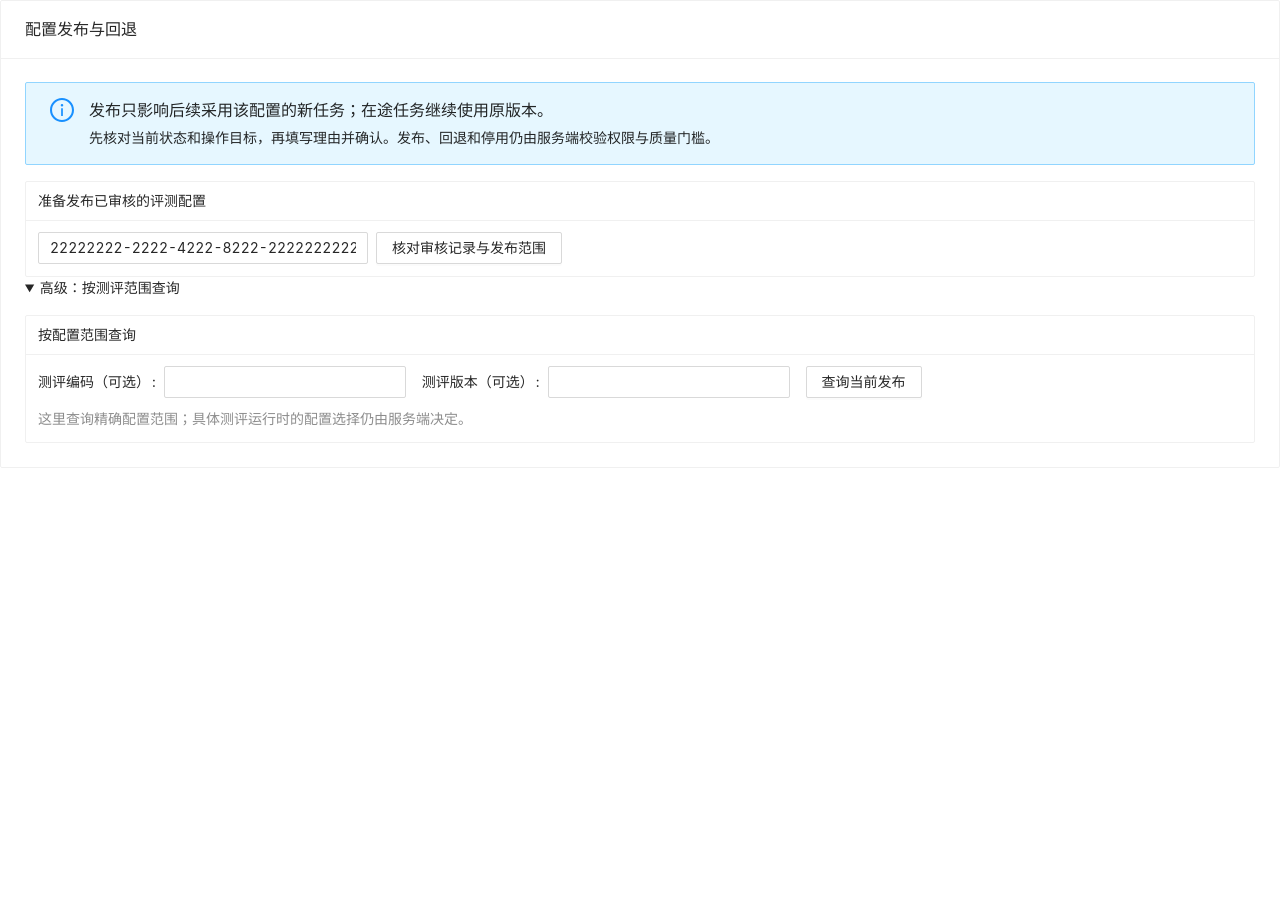
Test case: publishes approved evidence with nullable Profile scope false and reads the receipt
The image size is (1280, 898).
Click the button "核对审核记录与发布范围" at {"x": 469, "y": 248}, box [376,232,562,264]
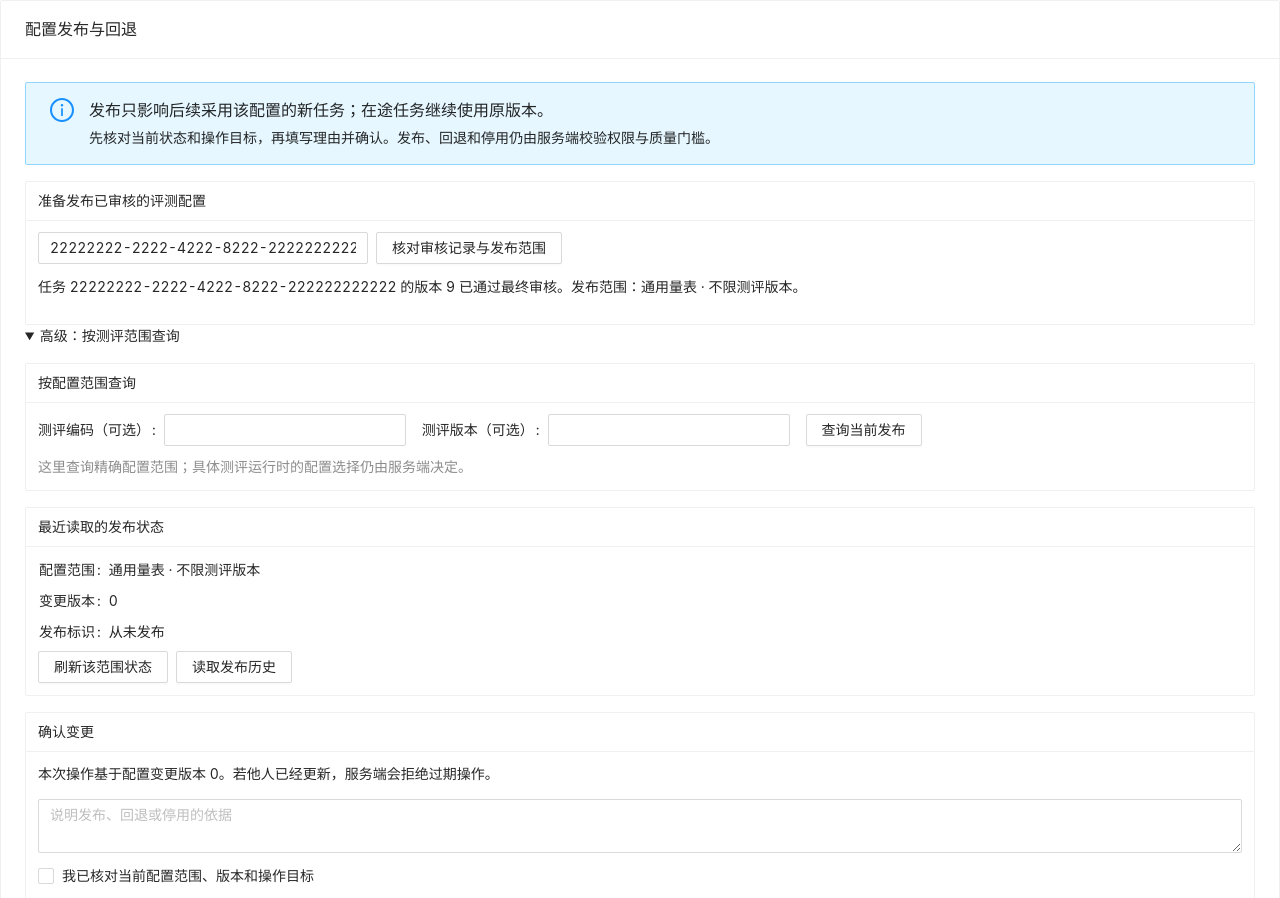
Result: the text "从未发布" is shown at [109,623,165,640]
Type "发布核对" into the text box named "发布操作理由" at {"x": 640, "y": 826}, box [38,799,1242,853]
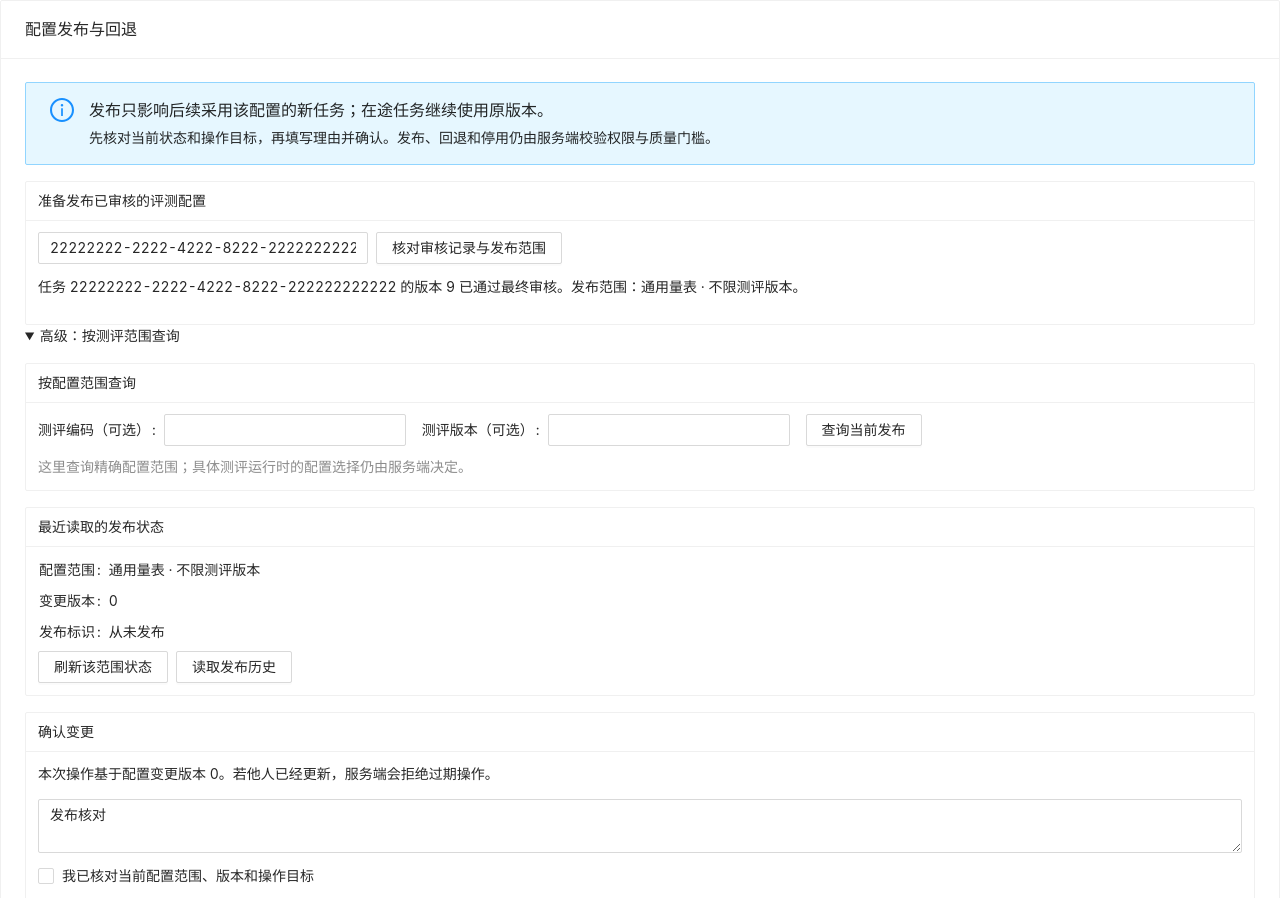
Click the checkbox labelled "我已核对当前配置范围、版本和操作目标" at {"x": 180, "y": 876}, box [38,865,322,887]
(page scrolled)
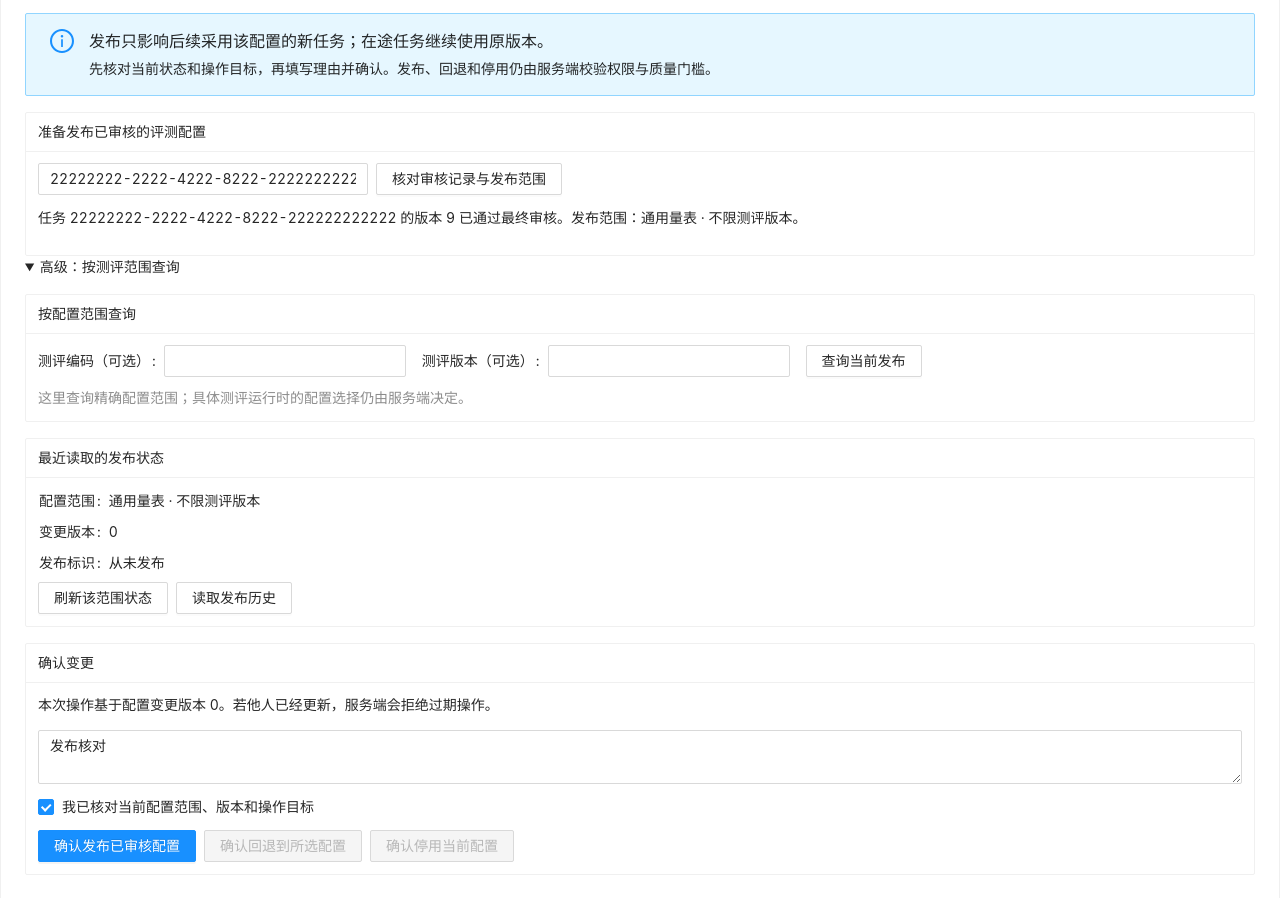
Click the button "确认发布已审核配置" at {"x": 117, "y": 846}, box [38,830,196,862]
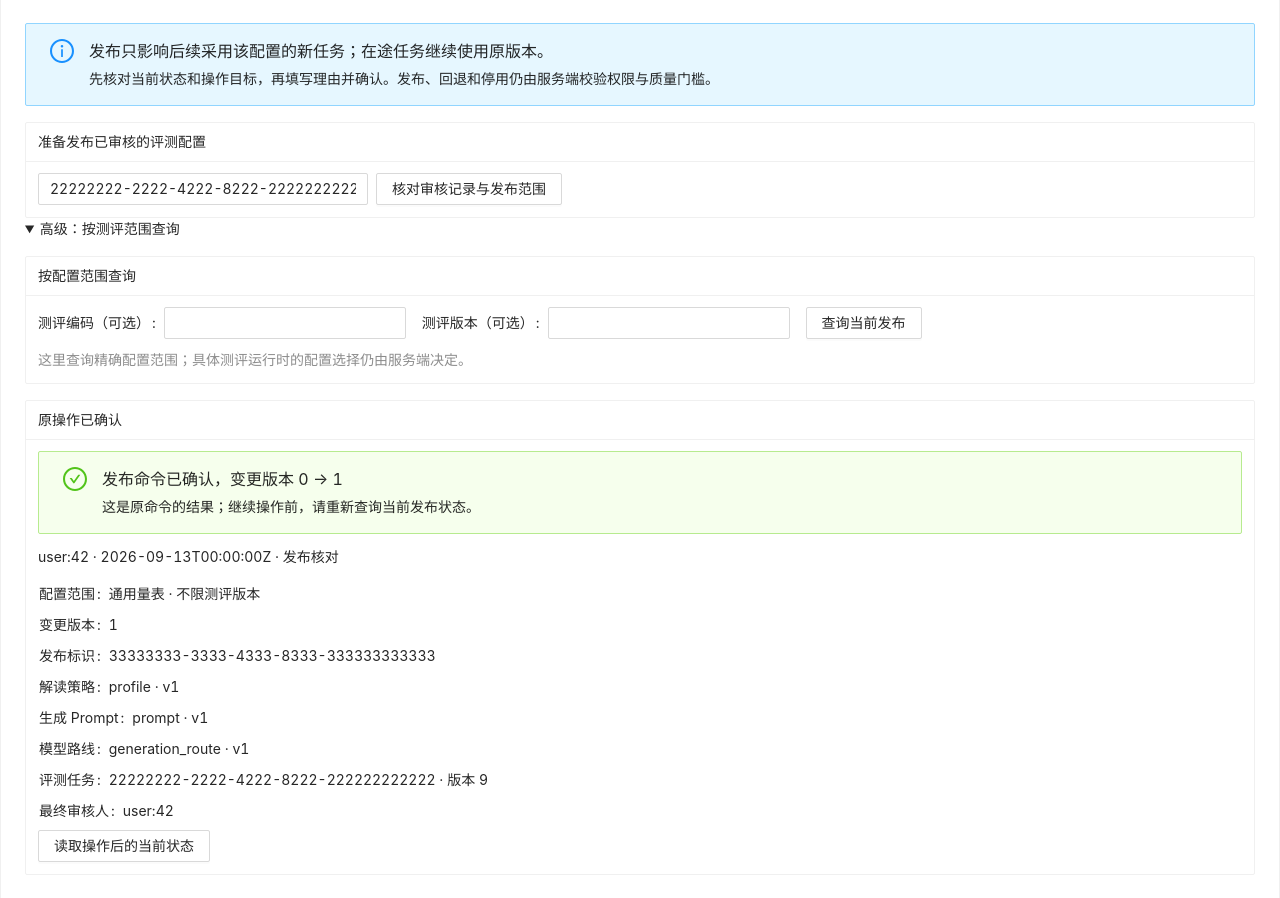
Result: the text "原操作已确认" is shown at [38,411,122,428]
Result: the button "确认发布已审核配置" is gone
Click the button "读取操作后的当前状态" at {"x": 124, "y": 846}, box [38,830,210,862]
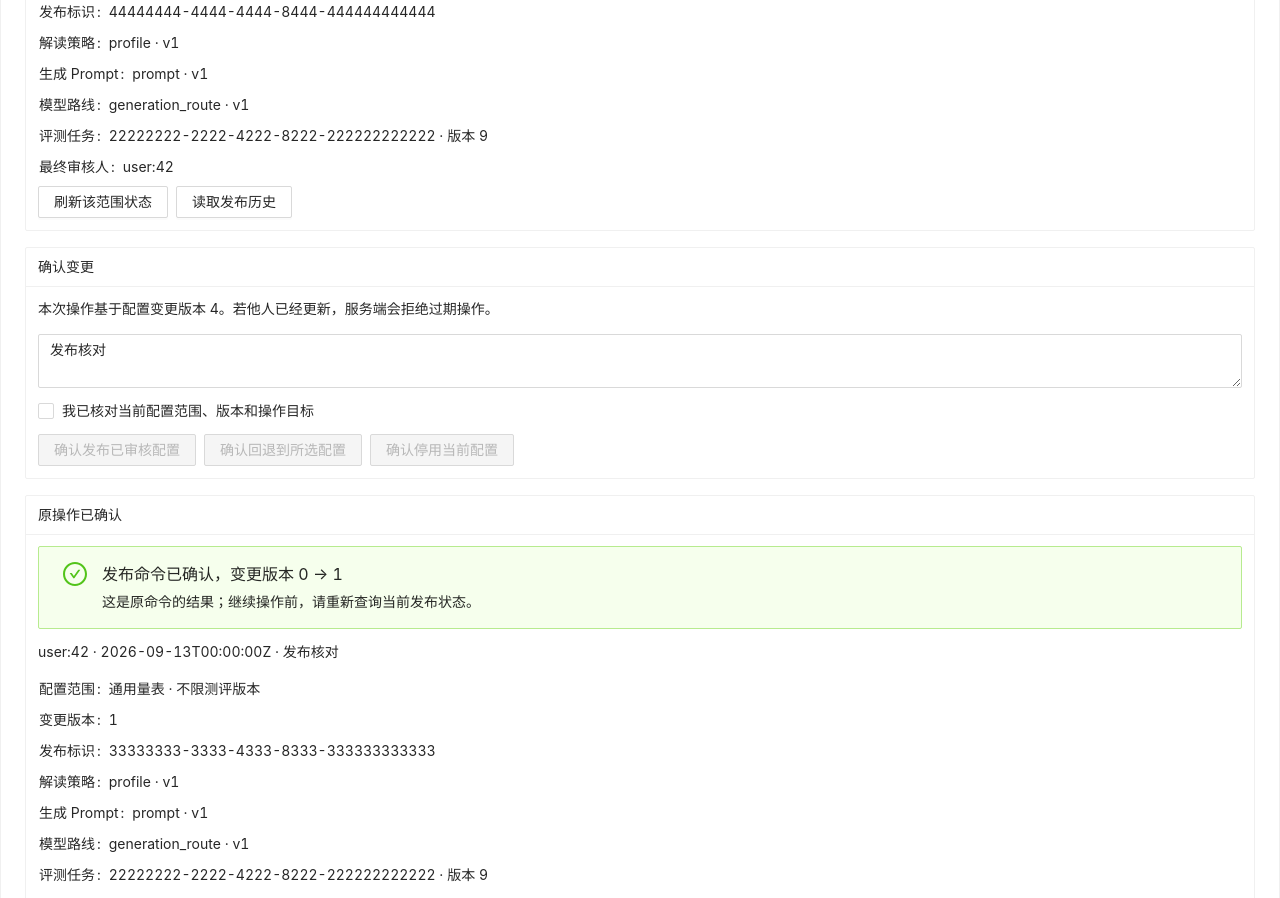
Result: the button "确认发布已审核配置" is disabled at [38,434,196,466]
